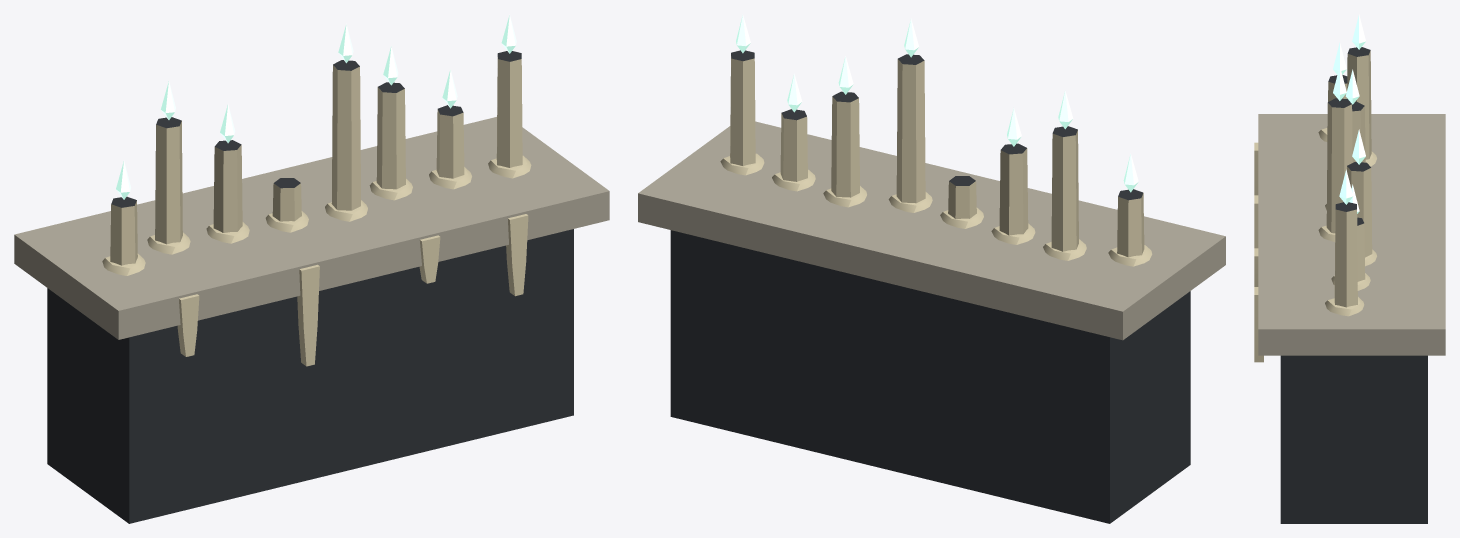
File: CandleShelf.fbx
The picture shows the model from 3 angles, left to right: view 1: azimuth 30°, elevation 25°; view 2: azimuth 150°, elevation 25°; view 3: azimuth 270°, elevation 25°; orthographic projection. The views are drawn at different scales.
Visible parts, largest first — view 1: CandleShelf; view 2: CandleShelf; view 3: CandleShelf.
Part boxes in pixels (left/top/right/bottom): CandleShelf: left=14, top=14, right=609, bottom=523; CandleShelf: left=638, top=14, right=1225, bottom=523; CandleShelf: left=1254, top=14, right=1445, bottom=523.
Size of the model in its own units: 1.06 by 0.8568 by 0.398.
